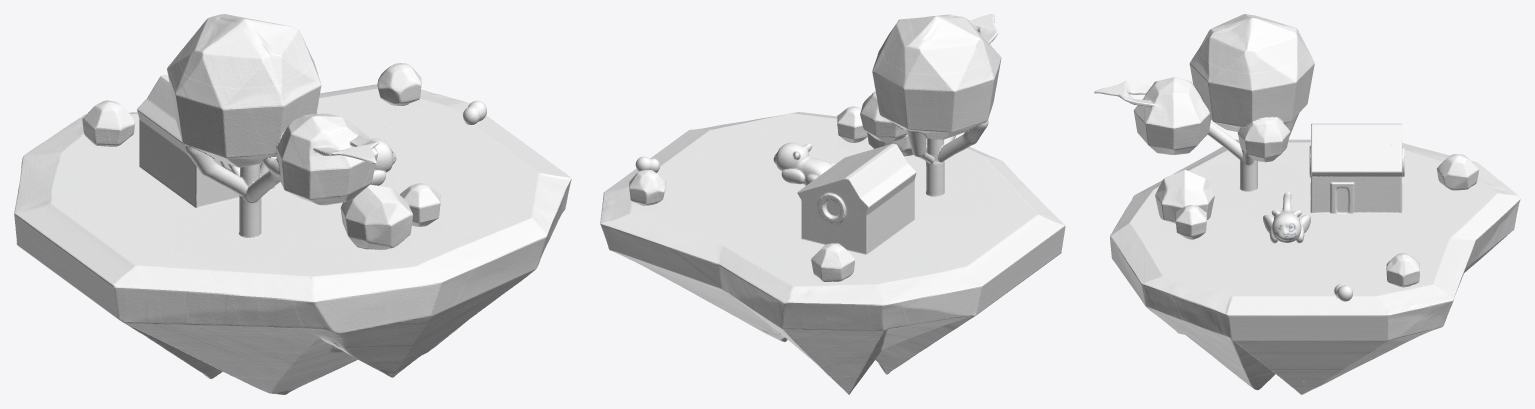
The model's file is island+scene+3d+model.glb.
The picture shows the model from 3 angles, left to right: view 1: azimuth 30°, elevation 25°; view 2: azimuth 150°, elevation 25°; view 3: azimuth 270°, elevation 25°; orthographic projection. The views are drawn at different scales.
Parts seen in each view (by area): view 1: tripo_node_525b67f6-211a-4161-b2be-bbd155494bdb; view 2: tripo_node_525b67f6-211a-4161-b2be-bbd155494bdb; view 3: tripo_node_525b67f6-211a-4161-b2be-bbd155494bdb.
Boxes of the visible parts, box(x1,y1,x2,y2) form: tripo_node_525b67f6-211a-4161-b2be-bbd155494bdb: box(14, 14, 571, 394); tripo_node_525b67f6-211a-4161-b2be-bbd155494bdb: box(600, 14, 1065, 394); tripo_node_525b67f6-211a-4161-b2be-bbd155494bdb: box(1094, 14, 1520, 394).
Bounding box in the file's own units: 0.9749 × 0.8155 × 1.
1 material, 1 textured.
